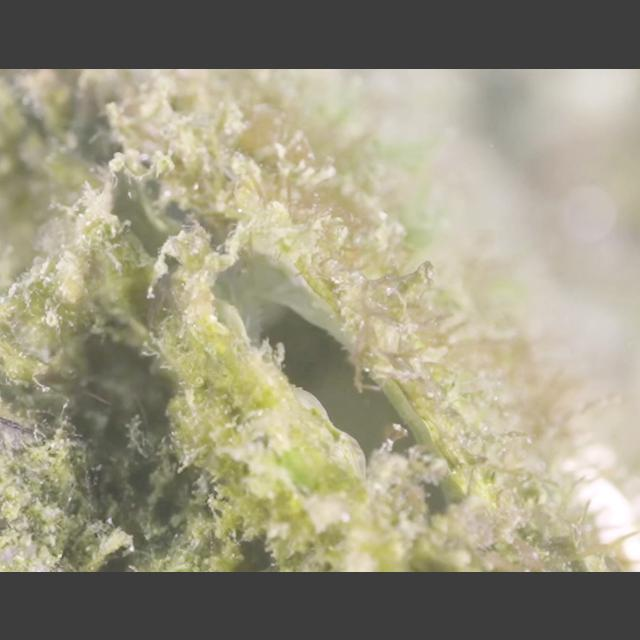Oyster-Open: (52, 78, 614, 570)
